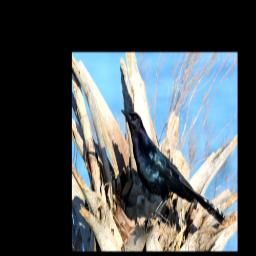Crow: (121, 110, 225, 233)
